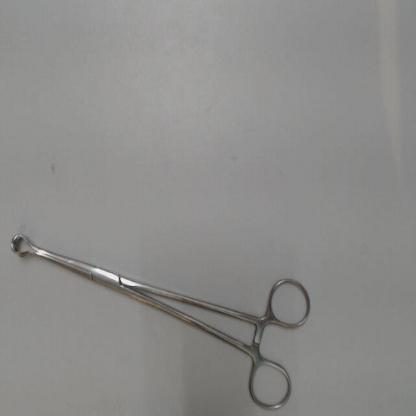8 Babcock Tissue Forceps: (8, 222, 316, 412)
